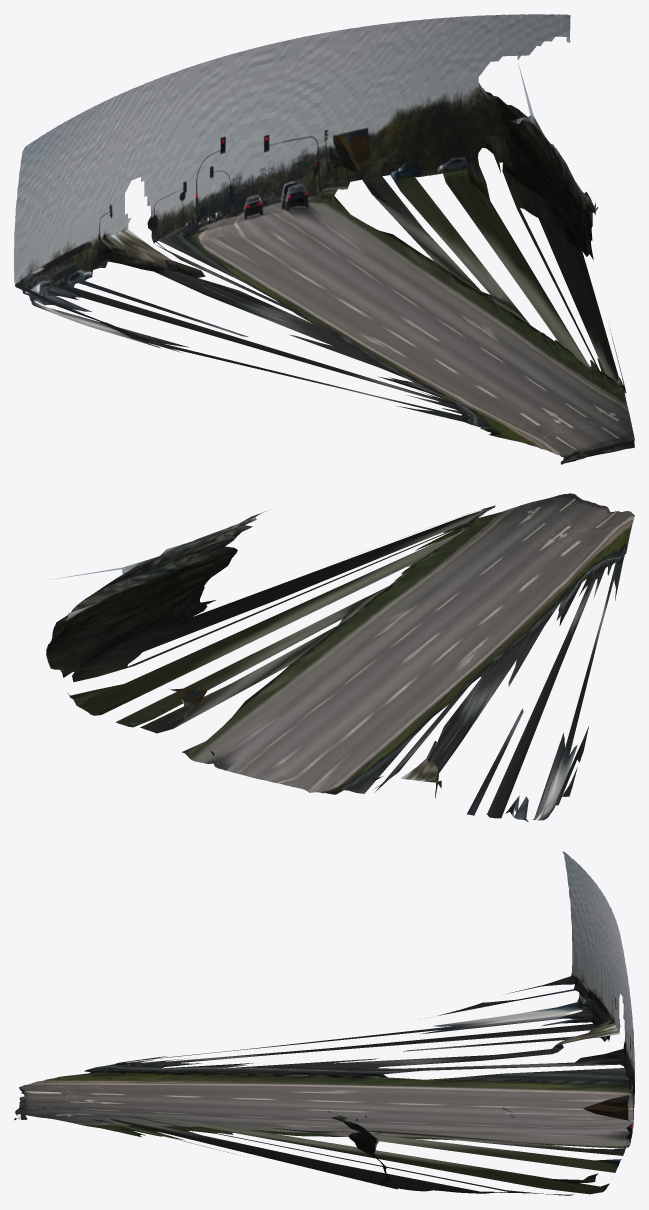
3 views of the same model, one above another, from view 1: azimuth 30°, elevation 25°; view 2: azimuth 150°, elevation 25°; view 3: azimuth 270°, elevation 25° (orthographic). The views are drawn at different scales.
Parts seen in each view (by area): view 1: defaultobject; view 2: defaultobject; view 3: defaultobject.
Boxes of the visible parts, <box> form: defaultobject: <box>14,14,634,464</box>; defaultobject: <box>46,493,634,821</box>; defaultobject: <box>14,851,634,1195</box>.
Bounding box in the file's own units: 40.95 × 12.94 × 44.38.
Materials: 1 (1 with a texture image).
